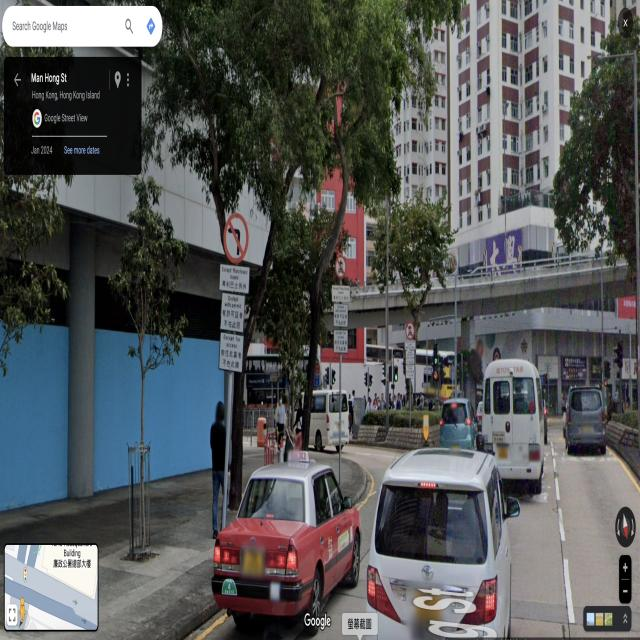Order-Sign: (226, 215, 247, 263), (219, 333, 244, 369), (220, 265, 249, 294), (223, 296, 243, 331), (332, 284, 351, 304), (334, 331, 348, 354), (334, 305, 348, 327), (335, 254, 347, 279), (406, 321, 415, 340), (406, 351, 415, 364), (406, 364, 414, 377), (405, 341, 416, 350)
